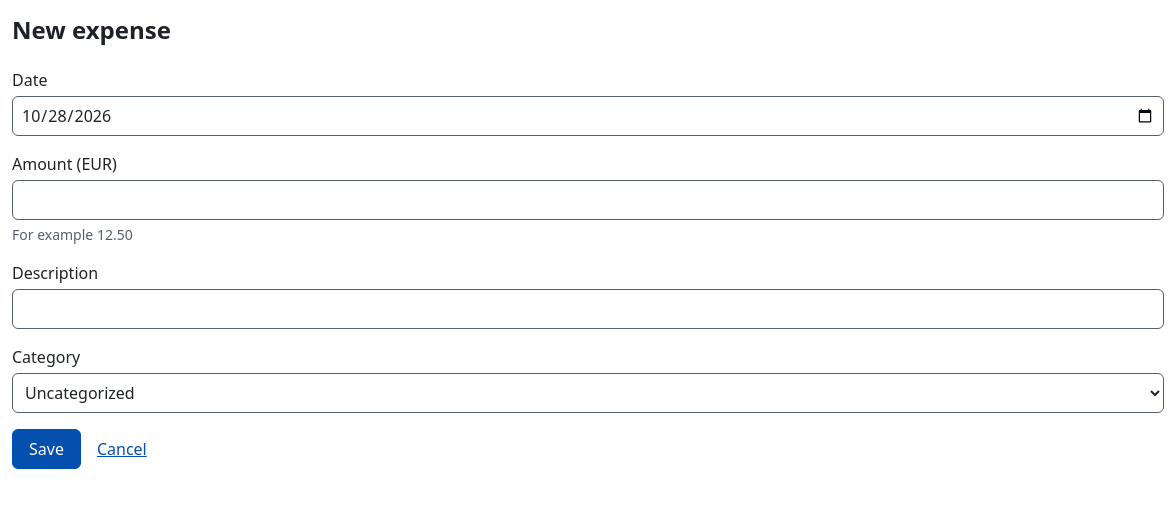
Test: ExpenseFormView: new › on a 422 at /categoryId refreshes the categories and shows the field message
Type "5" into the field with id "expense-amount" at {"x": 588, "y": 200}, box [12, 180, 1164, 220]
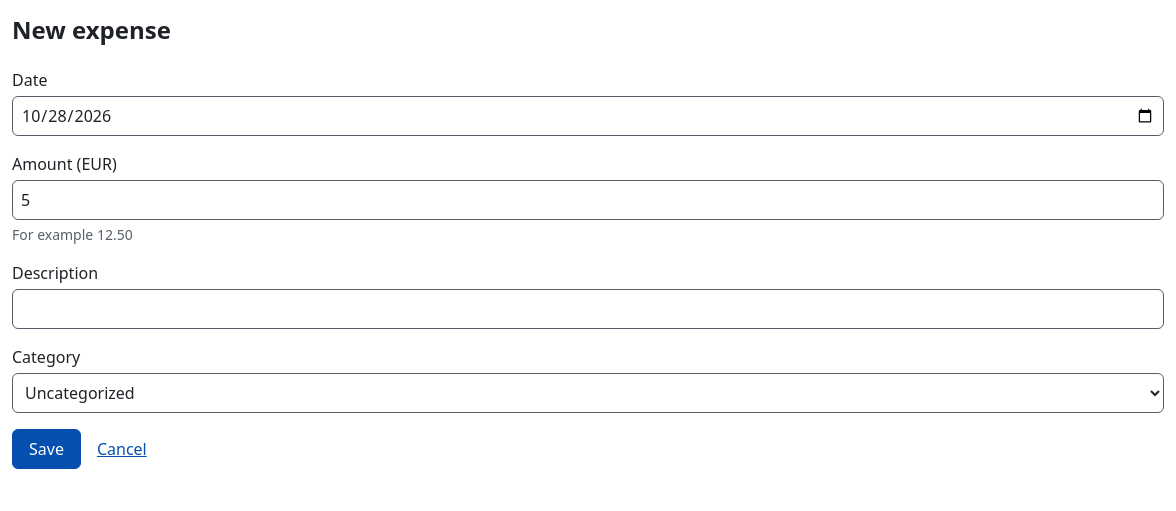
Type "Bus" into the field with id "expense-description" at {"x": 588, "y": 309}, box [12, 289, 1164, 329]
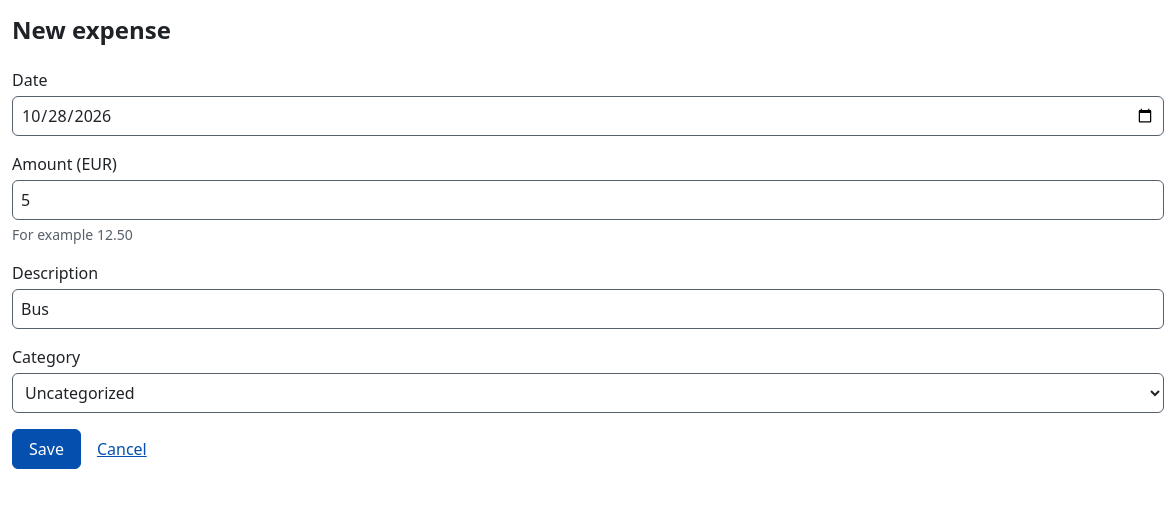
Select "Food" in the dropdown with id "expense-categoryId" at {"x": 588, "y": 393}, box [12, 373, 1164, 413]
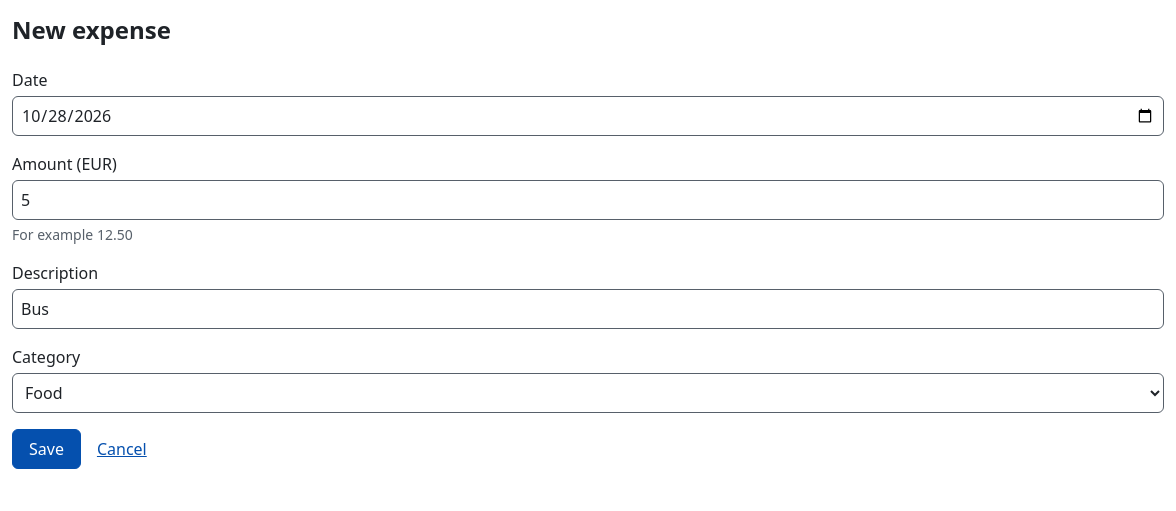
Submit the form
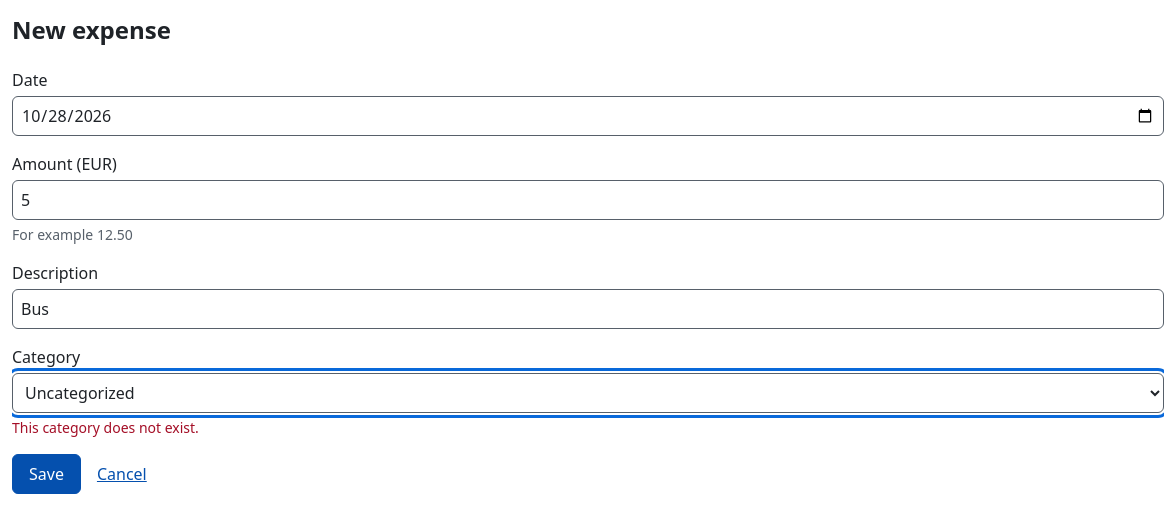
Result: the text with id "expense-categoryId-error" reads "This category does not exist." at [12, 418, 199, 437]
